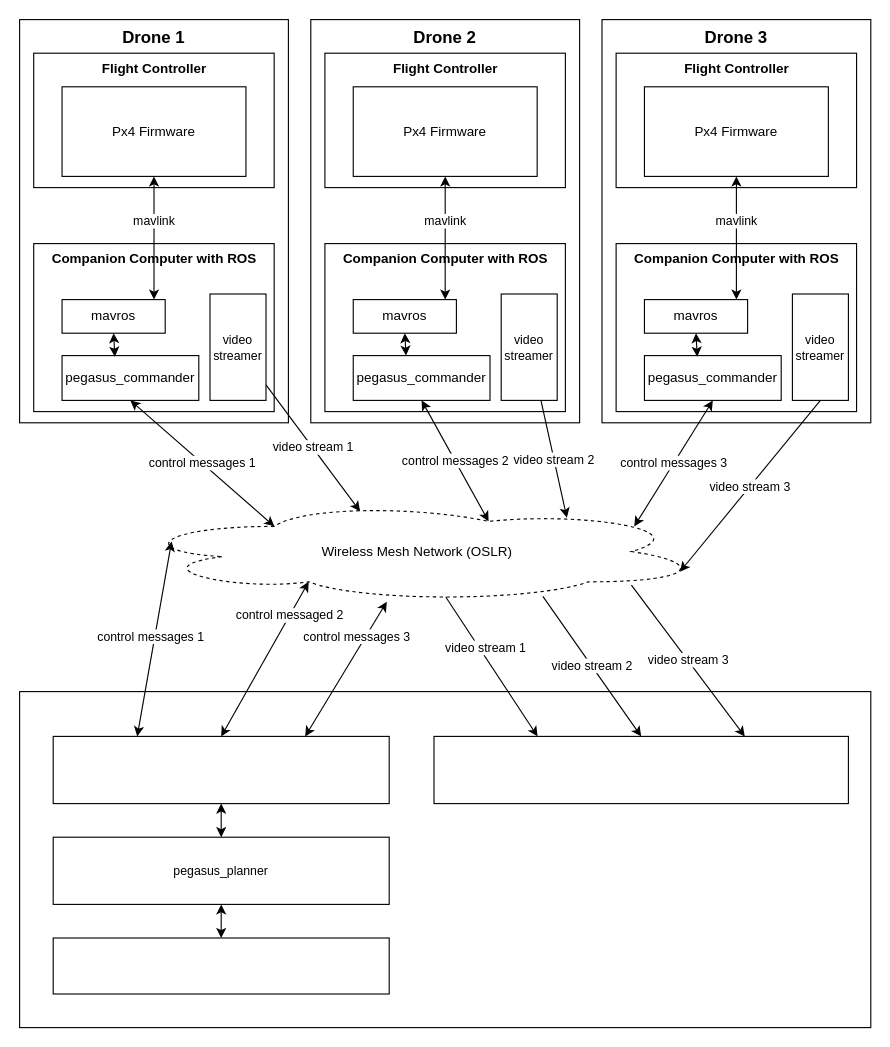
Image size: 890x1047. Some labels were removed from this diagram. The shapes that lost their labels are listed below. From the top down, each one's box as (x1, y1, x2, y2) in pixels, then its label:
(52, 735, 389, 804): pegasus_controller
(433, 735, 848, 804): SfM
(18, 690, 871, 1028): Ground Control Station with ROS
(52, 937, 389, 994): mapviz
